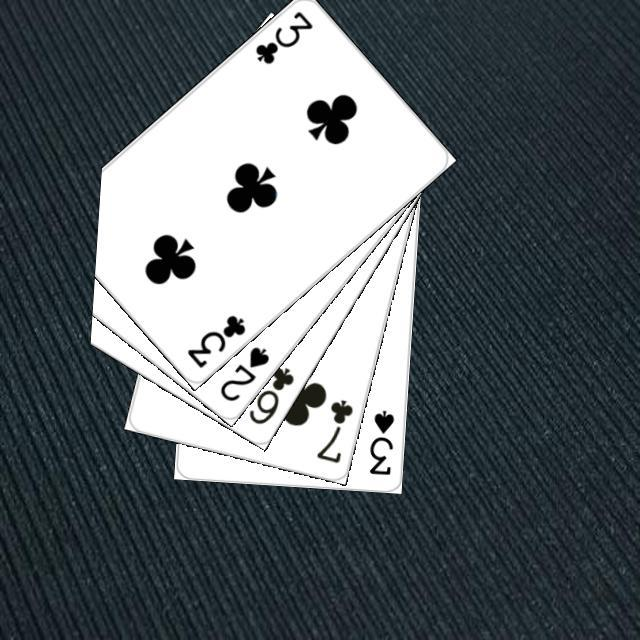2s: (215, 341, 272, 403)
3c: (182, 310, 247, 370), (250, 6, 315, 66)
3s: (364, 405, 396, 477)
6c: (243, 362, 296, 427)
7c: (311, 394, 355, 465)
